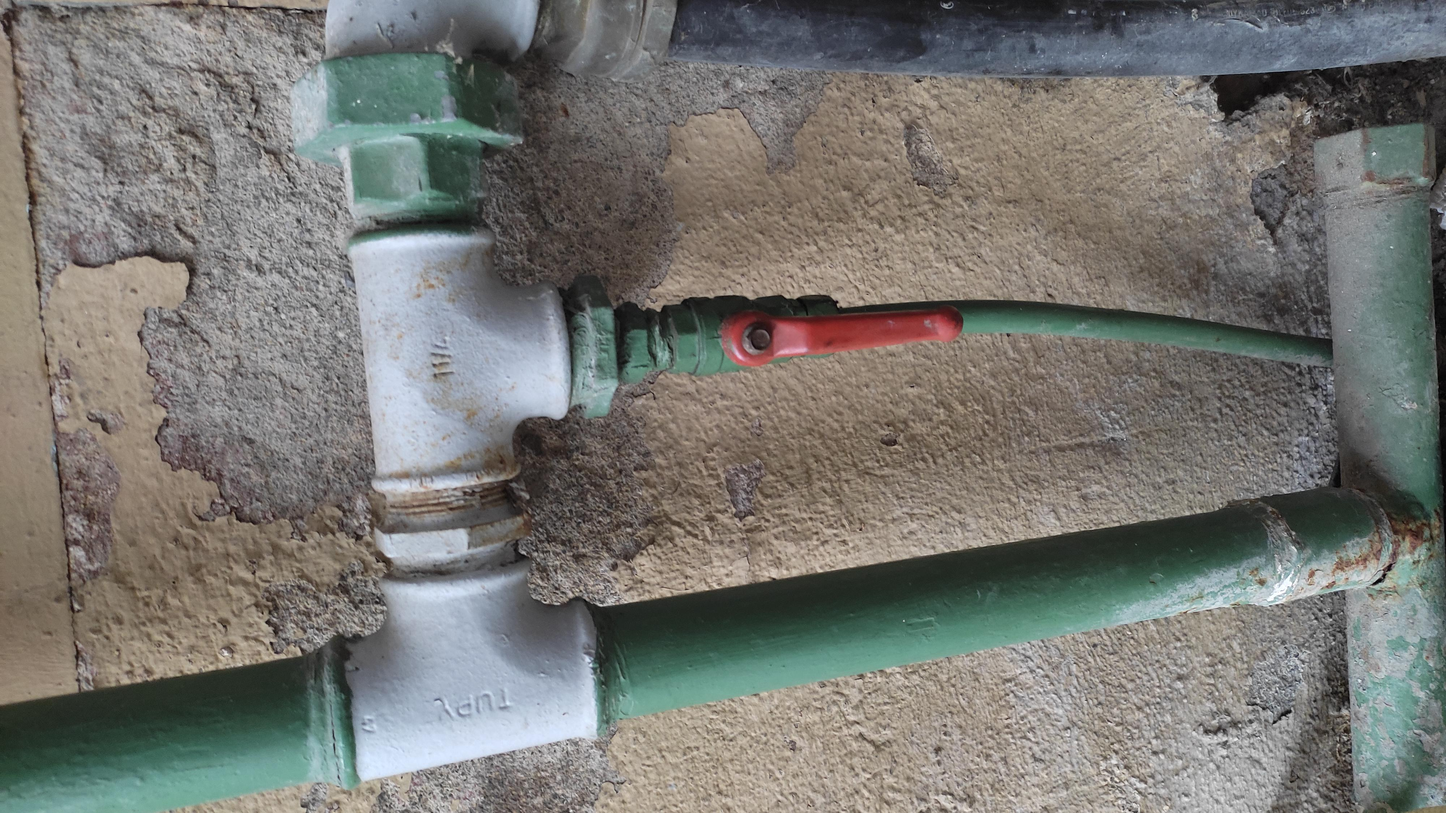opened valve: (656, 279, 975, 384)
